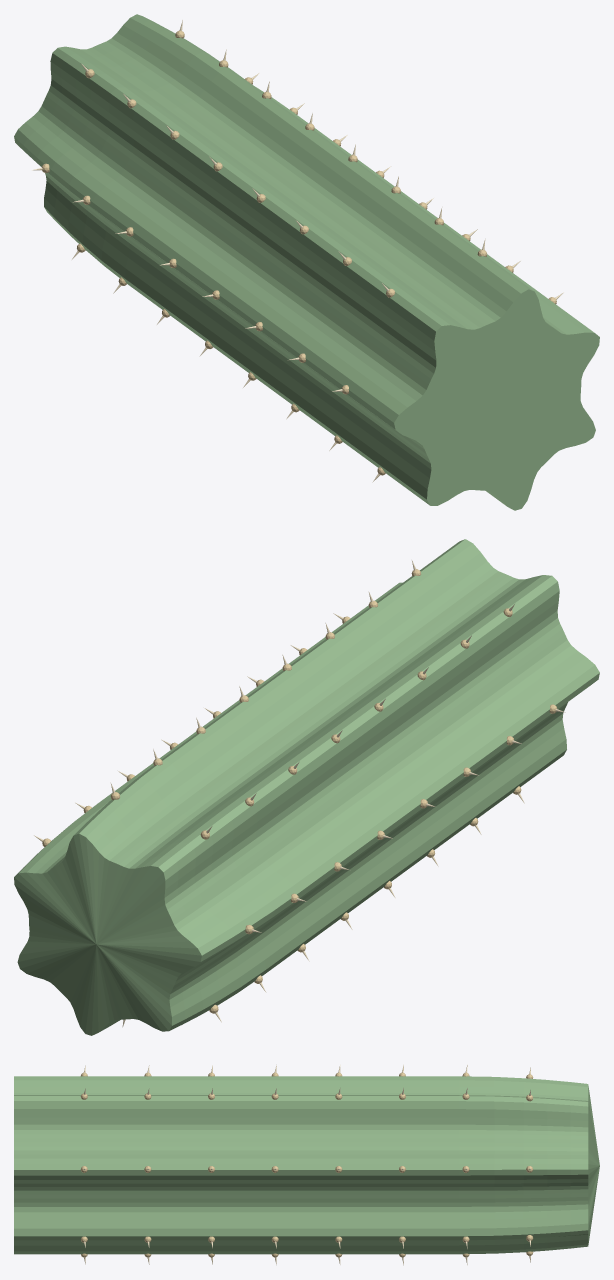
File: pachanoi-geometry-nodes-frame3.glb
The picture shows the model from 3 angles, top to bottom: view 1: azimuth 30°, elevation 25°; view 2: azimuth 150°, elevation 25°; view 3: azimuth 270°, elevation 25°; orthographic projection. The views are drawn at different scales.
Parts seen in each view (by area): view 1: WACHUMA_Pachanoi_GN_Baked; view 2: WACHUMA_Pachanoi_GN_Baked; view 3: WACHUMA_Pachanoi_GN_Baked.
Part boxes in pixels (x1,y1,x2,y2): WACHUMA_Pachanoi_GN_Baked: [14, 14, 599, 510]; WACHUMA_Pachanoi_GN_Baked: [14, 539, 599, 1035]; WACHUMA_Pachanoi_GN_Baked: [14, 1064, 599, 1265].
Size of the model in its own units: 0.8831 by 0.8953 by 2.6.
